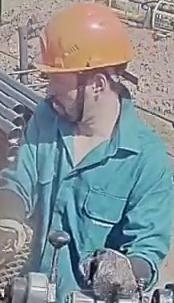gloves: (80, 245, 155, 303)
helmet: (34, 1, 135, 73)
vest: (0, 101, 172, 297)
